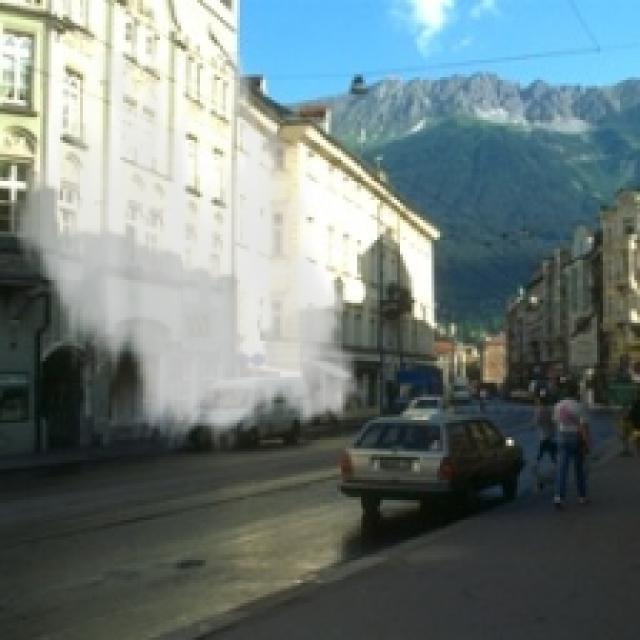Smoke: (2, 52, 374, 454)
